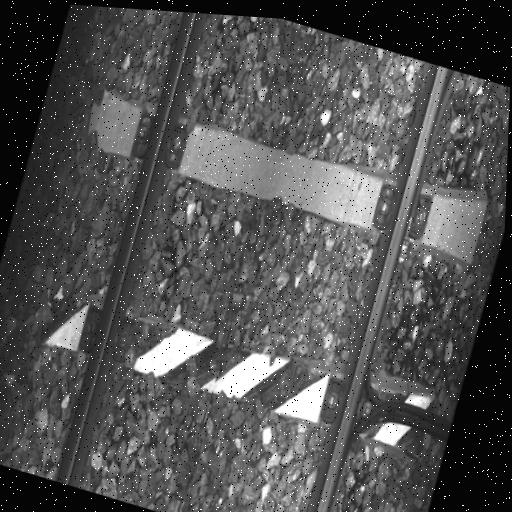sleeper: (22, 281, 441, 462), (76, 86, 492, 266)
